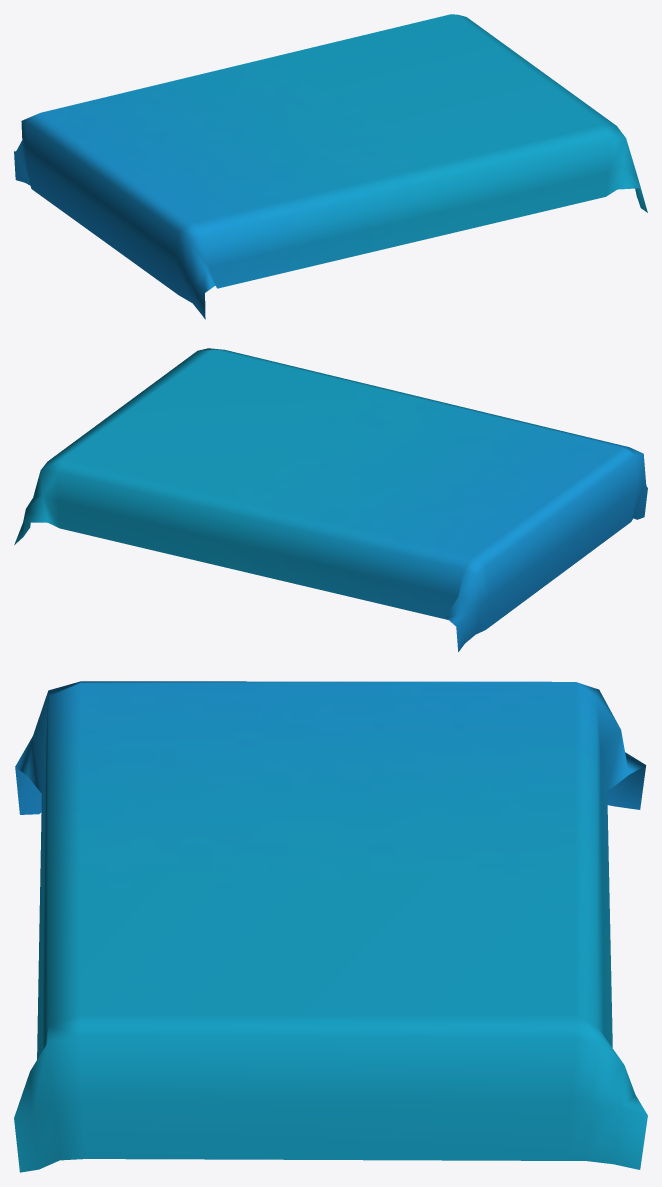
The model's file is SM_Table_Dining_Cloth_1_03.fbx.
3 views of the same model, one above another, from view 1: azimuth 30°, elevation 25°; view 2: azimuth 150°, elevation 25°; view 3: azimuth 270°, elevation 25° (orthographic). The views are drawn at different scales.
Visible parts, largest first — view 1: SM_Table_Dining_Cloth_1_03; view 2: SM_Table_Dining_Cloth_1_03; view 3: SM_Table_Dining_Cloth_1_03.
Part boxes in pixels (x1,y1,x2,y2): SM_Table_Dining_Cloth_1_03: (14, 14, 647, 319); SM_Table_Dining_Cloth_1_03: (14, 348, 647, 651); SM_Table_Dining_Cloth_1_03: (14, 681, 647, 1172).
Bounding box in the file's own units: 237 × 41.11 × 171.
